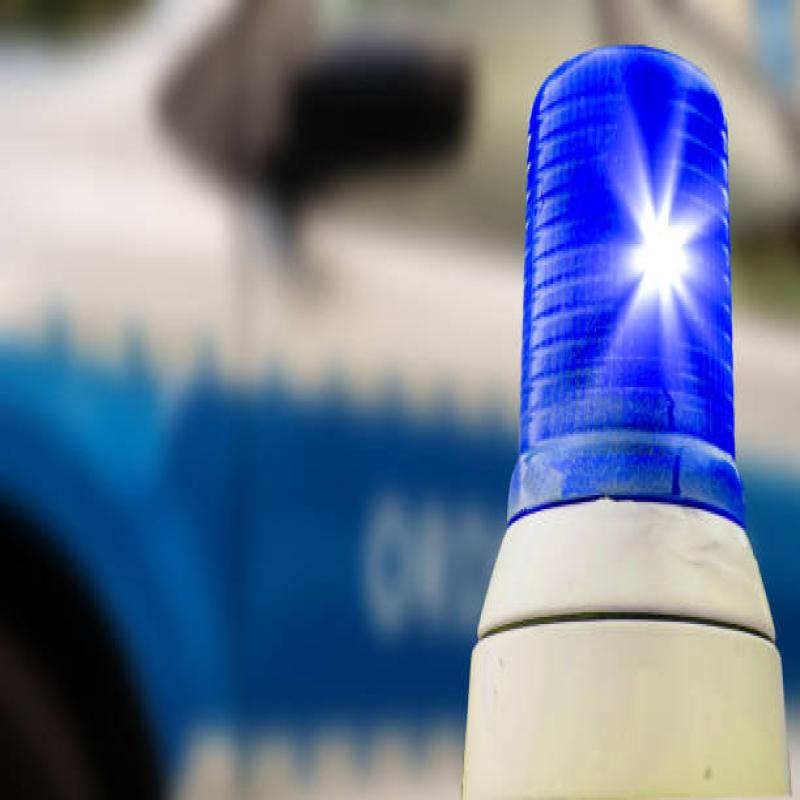AmbulanceSiren: (506, 35, 752, 535)
